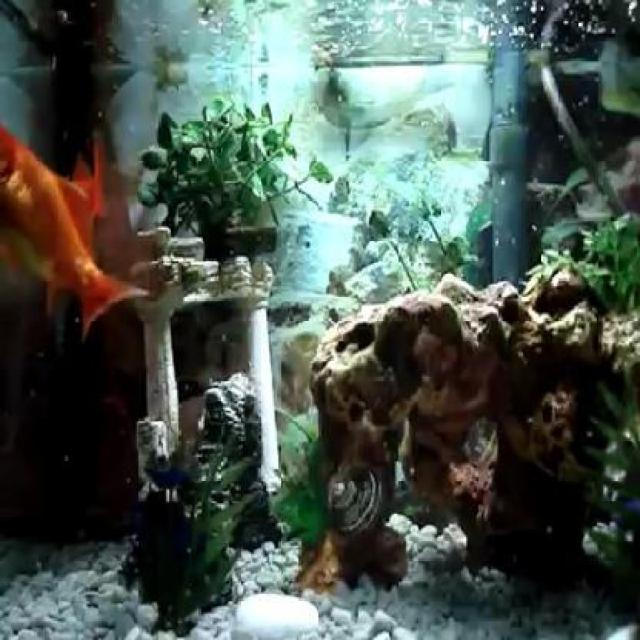GoldFish: (1, 120, 148, 342)
